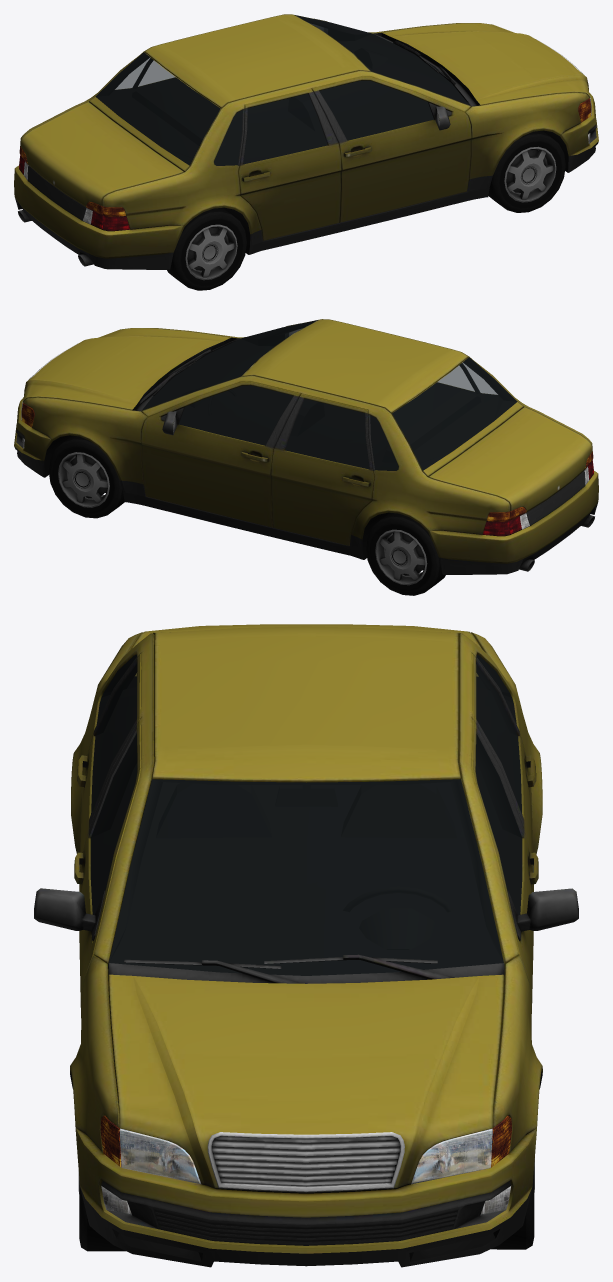
The model's file is sedan_generic.glb.
The picture shows the model from 3 angles, top to bottom: view 1: azimuth 30°, elevation 25°; view 2: azimuth 150°, elevation 25°; view 3: azimuth 270°, elevation 25°; orthographic projection. The views are drawn at different scales.
Visible parts, largest first — view 1: body, glass, wheel_rr, wheel_fr, body_Optics_5; view 2: body, glass, wheel_rl, wheel_fl, body_Optics_5; view 3: body, glass, body_Optics_5, wheel_fl, wheel_fr.
Part boxes in pixels (x1,y1,x2,y2): body: (14,14,598,269); glass: (96,15,470,165); wheel_rr: (167,208,246,290); wheel_fr: (488,130,565,212); body_Optics_5: (19,98,591,231); body: (14,319,598,574); glass: (142,320,516,470); wheel_rl: (366,513,445,595); wheel_fl: (48,435,124,518); body_Optics_5: (21,401,593,536); body: (34,624,578,1267); glass: (91,654,521,975); body_Optics_5: (100,1115,511,1215); wheel_fl: (491,1158,534,1249); wheel_fr: (78,1172,125,1251).
Size of the model in its own units: 4.6 by 1.42 by 2.05.
4 materials, 3 textured.
